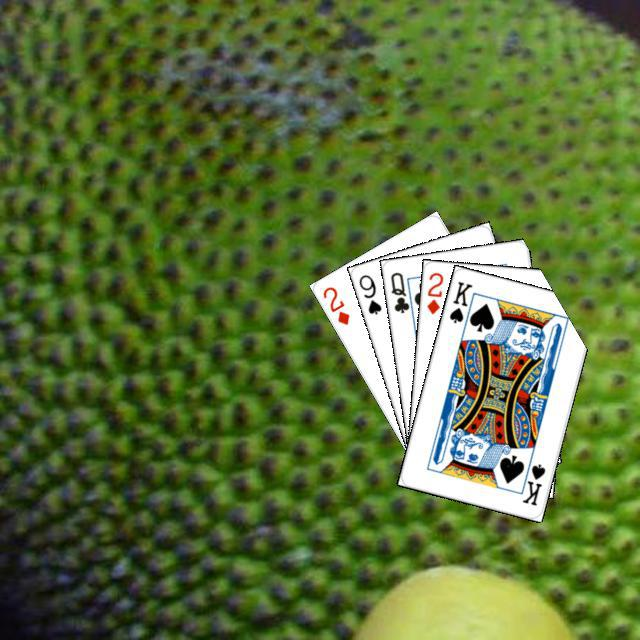2d: (318, 281, 351, 327), (422, 268, 445, 316)
9s: (354, 270, 383, 316)
Ks: (516, 453, 547, 507), (444, 276, 474, 325)
Qc: (386, 267, 415, 318)
